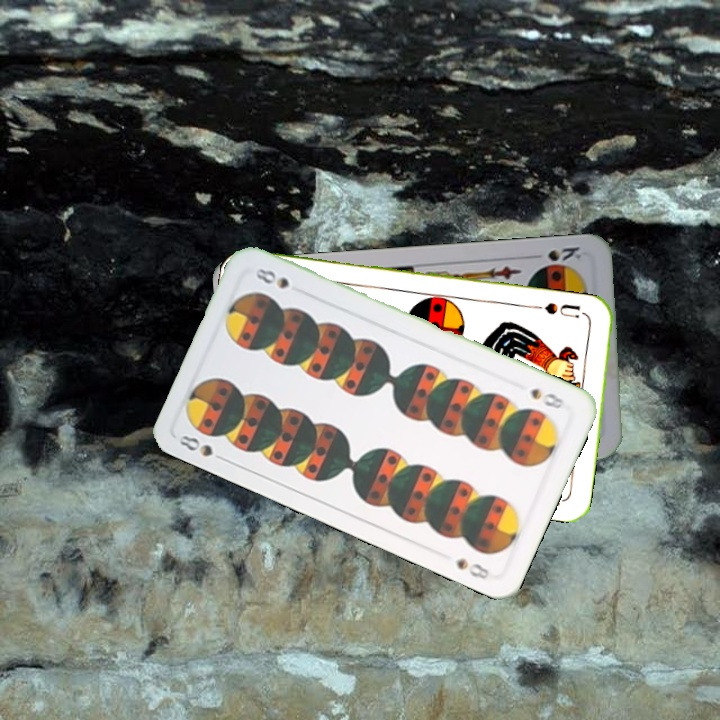S8: (175, 431, 231, 465), (526, 384, 568, 412)
SK: (543, 243, 584, 264)
SU: (532, 298, 583, 321)
